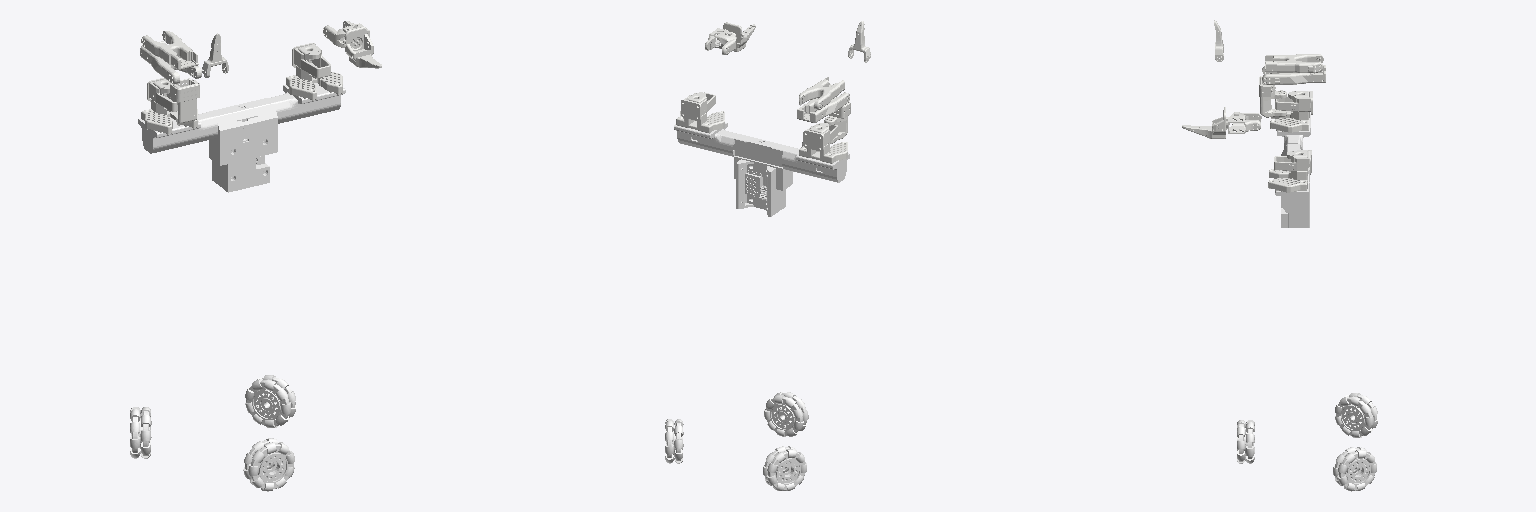
--- What the picture shows (computed from the rendered views, not written in the file) ---
3 views of the same robot in one strip: view 1: azimuth 30°, elevation 25°; view 2: azimuth 150°, elevation 25°; view 3: azimuth 270°, elevation 25° (orthographic).
Robot: Aloha — 19 links, 18 joints (12 revolute, 3 continuous, 1 prismatic, 2 fixed); root link base_link; default pose: all joints at 0.
Links seen in each view (by area): view 1: vertical_link, left_base, wheel3, wheel2, right_base, right_link3, right_link1, wheel1, left_link5, right_link2, right_link6; view 2: vertical_link, wheel1, wheel3, left_base, right_base, right_link3, wheel2, right_link2, left_link4; view 3: vertical_link, left_base, wheel2, wheel1, right_base, right_link3, right_link2, wheel3, right_link1, left_link4, left_link5.
Boxes of the visible links, x1,y1,x2,y2 form: vertical_link: (138, 83, 345, 192); left_base: (286, 43, 342, 100); wheel3: (243, 438, 294, 491); wheel2: (245, 375, 296, 427); right_base: (141, 78, 197, 134); right_link3: (141, 31, 198, 69); right_link1: (170, 78, 199, 125); wheel1: (130, 407, 151, 458); left_link5: (343, 27, 381, 68); right_link2: (140, 41, 201, 83); right_link6: (202, 33, 228, 77); vertical_link: (674, 123, 849, 216); wheel1: (763, 446, 806, 490); wheel3: (764, 392, 808, 436); left_base: (676, 92, 724, 133); right_base: (799, 123, 847, 163); right_link3: (799, 77, 844, 109); wheel2: (665, 419, 683, 463); right_link2: (797, 92, 849, 122); left_link4: (705, 28, 735, 54); vertical_link: (1275, 114, 1310, 227); left_base: (1268, 150, 1311, 192); wheel2: (1333, 447, 1376, 491); wheel1: (1335, 393, 1377, 437); right_base: (1270, 91, 1312, 132); right_link3: (1265, 54, 1323, 72); right_link2: (1262, 65, 1325, 84); wheel3: (1237, 420, 1254, 463); right_link1: (1259, 76, 1286, 117); left_link4: (1226, 112, 1261, 133); left_link5: (1182, 107, 1228, 138).
Size in the robot's own frame: 0.4248 by 0.4379 by 1.01 metres.
Meshes: 19 distinct files referenced, 12 mesh visuals loaded (12 binary STL); not drawn: 7 (reference not matched to a file when rendering).

URDF robot description (Aloha):
<?xml version="1.0" encoding="utf-8"?>
<!-- This URDF was automatically created by SolidWorks to URDF Exporter! Originally created by Stephen Brawner ([email redacted]) 
     Commit Version: 1.6.0-4-g7f85cfe  Build Version: 1.6.7995.38578
     For more information, please see http://wiki.ros.org/sw_urdf_exporter -->
<robot
  name="Aloha">
  <link
    name="base_link">
    <inertial>
      <origin
        xyz="-0.00084647910851246 0.00978916757496985 0.344753325406094"
        rpy="0 0 0" />
      <mass
        value="5.09802085015176" />
      <inertia
        ixx="0.0213914677302785"
        ixy="-9.32121685832386E-05"
        ixz="2.18297110088875E-05"
        iyy="0.020094368938593"
        iyz="-0.000213141208765021"
        izz="0.0220967466492654" />
    </inertial>
    <visual>
      <origin
        xyz="0 0 0"
        rpy="0 0 0" />
      <geometry>
        <mesh
          filename="package://Aloha/meshes/base_link.STL" />
      </geometry>
      <material
        name="">
        <color
          rgba="1 1 1 1" />
      </material>
    </visual>
    <collision>
      <origin
        xyz="0 0 0"
        rpy="0 0 0" />
      <geometry>
        <mesh
          filename="package://Aloha/meshes/base_link.STL" />
      </geometry>
    </collision>
  </link>
  <link
    name="wheel1">
    <inertial>
      <origin
        xyz="-5.2748796340582E-05 0.0157741139634841 -1.84430449176598E-07"
        rpy="0 0 0" />
      <mass
        value="0.19481896281763" />
      <inertia
        ixx="5.08892096796909E-05"
        ixy="3.60517539503935E-11"
        ixz="2.69071538213238E-11"
        iyy="9.36352341038526E-05"
        iyz="-4.45292183145822E-12"
        izz="5.08902241573002E-05" />
    </inertial>
    <visual>
      <origin
        xyz="0 0 0"
        rpy="0 0 0" />
      <geometry>
        <mesh
          filename="package://Aloha/meshes/wheel1.STL" />
      </geometry>
      <material
        name="">
        <color
          rgba="1 1 1 1" />
      </material>
    </visual>
    <collision>
      <origin
        xyz="0 0 0"
        rpy="0 0 0" />
      <geometry>
        <mesh
          filename="package://Aloha/meshes/wheel1.STL" />
      </geometry>
    </collision>
  </link>
  <joint
    name="wheel1"
    type="continuous">
    <origin
      xyz="-0.1538 0.091161 0.0422"
      rpy="0 0 -2.1099" />
    <parent
      link="base_link" />
    <child
      link="wheel1" />
    <axis
      xyz="0 -1 0" />
  </joint>
  <link
    name="wheel2">
    <inertial>
      <origin
        xyz="-6.44947300230958E-06 0.0157740656100239 -5.23561600380557E-05"
        rpy="0 0 0" />
      <mass
        value="0.194818035649416" />
      <inertia
        ixx="5.08900024988905E-05"
        ixy="-1.20873751512226E-12"
        ixz="-2.02779746634605E-10"
        iyy="9.36349961033418E-05"
        iyz="5.35464291484247E-11"
        izz="5.08890471060775E-05" />
    </inertial>
    <visual>
      <origin
        xyz="0 0 0"
        rpy="0 0 0" />
      <geometry>
        <mesh
          filename="package://Aloha/meshes/wheel2.STL" />
      </geometry>
      <material
        name="">
        <color
          rgba="1 1 1 1" />
      </material>
    </visual>
    <collision>
      <origin
        xyz="0 0 0"
        rpy="0 0 0" />
      <geometry>
        <mesh
          filename="package://Aloha/meshes/wheel2.STL" />
      </geometry>
    </collision>
  </link>
  <joint
    name="wheel2"
    type="continuous">
    <origin
      xyz="0.15563 0.087993 0.0422"
      rpy="0 0 2.086" />
    <parent
      link="base_link" />
    <child
      link="wheel2" />
    <axis
      xyz="0 -1 0" />
  </joint>
  <link
    name="wheel3">
    <inertial>
      <origin
        xyz="0.000217589099159171 0.0157726511952609 -4.56400979924609E-05"
        rpy="0 0 0" />
      <mass
        value="0.194818526867466" />
      <inertia
        ixx="5.08999061873463E-05"
        ixy="6.61616290797392E-07"
        ixz="-7.54847308347756E-10"
        iyy="9.36248071320913E-05"
        iyz="7.68531292230303E-11"
        izz="5.08898375022648E-05" />
    </inertial>
    <visual>
      <origin
        xyz="0 0 0"
        rpy="0 0 0" />
      <geometry>
        <mesh
          filename="package://Aloha/meshes/wheel3.STL" />
      </geometry>
      <material
        name="">
        <color
          rgba="1 1 1 1" />
      </material>
    </visual>
    <collision>
      <origin
        xyz="0 0 0"
        rpy="0 0 0" />
      <geometry>
        <mesh
          filename="package://Aloha/meshes/wheel3.STL" />
      </geometry>
    </collision>
  </link>
  <joint
    name="wheel3"
    type="continuous">
    <origin
      xyz="-0.0020354 -0.17875 0.0422"
      rpy="0 0 0" />
    <parent
      link="base_link" />
    <child
      link="wheel3" />
    <axis
      xyz="-0.015476 -0.99988 0" />
  </joint>
  <link
    name="vertical_link">
    <inertial>
      <origin
        xyz="-0.000281866140488002 0.00785823838067955 0.630167237552405"
        rpy="0 0 0" />
      <mass
        value="1.13349901272872" />
      <inertia
        ixx="0.0010858428483705"
        ixy="2.13306252507509E-05"
        ixz="-1.00486949790508E-05"
        iyy="0.00311024638919642"
        iyz="-2.96414805022489E-05"
        izz="0.0024076600321941" />
    </inertial>
    <visual>
      <origin
        xyz="0 0 0"
        rpy="0 0 0" />
      <geometry>
        <mesh
          filename="package://Aloha/meshes/vertical_link.STL" />
      </geometry>
      <material
        name="">
        <color
          rgba="1 1 1 1" />
      </material>
    </visual>
    <collision>
      <origin
        xyz="0 0 0"
        rpy="0 0 0" />
      <geometry>
        <mesh
          filename="package://Aloha/meshes/vertical_link.STL" />
      </geometry>
    </collision>
  </link>
  <joint
    name="vertical_move"
    type="prismatic">
    <origin
      xyz="-0.001045 -0.067891 0.064"
      rpy="0 0 0" />
    <parent
      link="base_link" />
    <child
      link="vertical_link" />
    <axis
      xyz="0 1.8801E-05 1" />
    <limit
      lower="0"
      upper="0"
      effort="0"
      velocity="0" />
  </joint>
  <link
    name="left_base">
    <inertial>
      <origin
        xyz="-6.47167646904735E-05 0.0317790321031433 0.0165976346519832"
        rpy="0 0 0" />
      <mass
        value="0.198100409133884" />
      <inertia
        ixx="0.000137416766071961"
        ixy="-1.82517377942839E-09"
        ixz="-5.13449093551759E-07"
        iyy="0.000177539441067423"
        iyz="2.132896783062E-05"
        izz="0.0001503685199807" />
    </inertial>
    <visual>
      <origin
        xyz="0 0 0"
        rpy="0 0 0" />
      <geometry>
        <mesh
          filename="package://Aloha/meshes/left_base.STL" />
      </geometry>
      <material
        name="">
        <color
          rgba="0.964705882352941 0.964705882352941 0.952941176470588 1" />
      </material>
    </visual>
    <collision>
      <origin
        xyz="0 0 0"
        rpy="0 0 0" />
      <geometry>
        <mesh
          filename="package://Aloha/meshes/left_base.STL" />
      </geometry>
    </collision>
  </link>
  <joint
    name="left_base"
    type="fixed">
    <origin
      xyz="0.15726 0.026474 0.68821"
      rpy="1.5721 0 -0.01193" />
    <parent
      link="vertical_link" />
    <child
      link="left_base" />
    <axis
      xyz="0 0 0" />
  </joint>
  <link
    name="left_link1">
    <inertial>
      <origin
        xyz="0.000121106970690763 -0.0313187111675913 0.0119674003207884"
        rpy="0 0 0" />
      <mass
        value="0.124705001245189" />
      <inertia
        ixx="5.98529439039593E-05"
        ixy="4.23009347760015E-08"
        ixz="4.23863604085012E-07"
        iyy="5.56041421022497E-05"
        iyz="4.7788290550065E-06"
        izz="3.02532949332968E-05" />
    </inertial>
    <visual>
      <origin
        xyz="0 0 0"
        rpy="0 0 0" />
      <geometry>
        <mesh
          filename="package://Aloha/meshes/left_link1.STL" />
      </geometry>
      <material
        name="">
        <color
          rgba="0.964705882352941 0.964705882352941 0.952941176470588 1" />
      </material>
    </visual>
    <collision>
      <origin
        xyz="0 0 0"
        rpy="0 0 0" />
      <geometry>
        <mesh
          filename="package://Aloha/meshes/left_link1.STL" />
      </geometry>
    </collision>
  </link>
  <joint
    name="left_joint1"
    type="revolute">
    <origin
      xyz="-9.9427E-05 0.065387 0.045495"
      rpy="-1.5721 0.01193 -1.5058E-05" />
    <parent
      link="left_base" />
    <child
      link="left_link1" />
    <axis
      xyz="0.00011908 0.0099879 -0.99995" />
    <limit
      lower="0"
      upper="0"
      effort="0"
      velocity="0" />
  </joint>
  <link
    name="left_link2">
    <inertial>
      <origin
        xyz="0.019956873522225 0.0742856296056551 0.00422113879640418"
        rpy="0 0 0" />
      <mass
        value="0.159995189384934" />
      <inertia
        ixx="0.000151783987720491"
        ixy="1.09262655684205E-06"
        ixz="1.21662497181061E-07"
        iyy="5.76463942492128E-05"
        iyz="7.49535020674174E-07"
        izz="0.000186896896161095" />
    </inertial>
    <visual>
      <origin
        xyz="0 0 0"
        rpy="0 0 0" />
      <geometry>
        <mesh
          filename="package://Aloha/meshes/left_link2.STL" />
      </geometry>
      <material
        name="">
        <color
          rgba="0.964705882352941 0.964705882352941 0.952941176470588 1" />
      </material>
    </visual>
    <collision>
      <origin
        xyz="0 0 0"
        rpy="0 0 0" />
      <geometry>
        <mesh
          filename="package://Aloha/meshes/left_link2.STL" />
      </geometry>
    </collision>
  </link>
  <joint
    name="left_joint2"
    type="revolute">
    <origin
      xyz="-0.0172799395963306 -0.0311811002780606 0.0539361523404946"
      rpy="0 0 0" />
    <parent
      link="left_link1" />
    <child
      link="left_link2" />
    <axis
      xyz="0.999994864047587 -0.00320379392081127 8.70801950002401E-05" />
    <limit
      lower="0"
      upper="0"
      effort="0"
      velocity="0" />
  </joint>
  <link
    name="left_link3">
    <inertial>
      <origin
        xyz="0.0188635530589078 -0.0764818324673495 0.000740365189654368"
        rpy="0 0 0" />
      <mass
        value="0.135542971850972" />
      <inertia
        ixx="9.79530639893018E-05"
        ixy="7.32525825400078E-07"
        ixz="-1.97978431727559E-07"
        iyy="3.97033329850519E-05"
        iyz="-2.49654893442067E-06"
        izz="0.000125313695411449" />
    </inertial>
    <visual>
      <origin
        xyz="0 0 0"
        rpy="0 0 0" />
      <geometry>
        <mesh
          filename="package://Aloha/meshes/left_link3.STL" />
      </geometry>
      <material
        name="">
        <color
          rgba="0.964705882352941 0.964705882352941 0.952941176470588 1" />
      </material>
    </visual>
    <collision>
      <origin
        xyz="0 0 0"
        rpy="0 0 0" />
      <geometry>
        <mesh
          filename="package://Aloha/meshes/left_link3.STL" />
      </geometry>
    </collision>
  </link>
  <joint
    name="left_joint3"
    type="revolute">
    <origin
      xyz="0.0028523 0.11238 0.028829"
      rpy="0 0 0" />
    <parent
      link="left_link2" />
    <child
      link="left_link3" />
    <axis
      xyz="0.99996 -0.0032908 0.0088132" />
    <limit
      lower="0"
      upper="0"
      effort="0"
      velocity="0" />
  </joint>
  <link
    name="left_link4">
    <inertial>
      <origin
        xyz="0.0279838202754113 -0.0363068236889853 0.000384829033235112"
        rpy="0 0 0" />
      <mass
        value="0.0742878691881685" />
      <inertia
        ixx="1.66990659139949E-05"
        ixy="1.97720472060619E-06"
        ixz="-2.54232662541019E-07"
        iyy="2.43741118311199E-05"
        iyz="6.90575207676445E-08"
        izz="3.14317929408492E-05" />
    </inertial>
    <visual>
      <origin
        xyz="0 0 0"
        rpy="0 0 0" />
      <geometry>
        <mesh
          filename="package://Aloha/meshes/left_link4.STL" />
      </geometry>
      <material
        name="">
        <color
          rgba="0.964705882352941 0.964705882352941 0.952941176470588 1" />
      </material>
    </visual>
    <collision>
      <origin
        xyz="0 0 0"
        rpy="0 0 0" />
      <geometry>
        <mesh
          filename="package://Aloha/meshes/left_link4.STL" />
      </geometry>
    </collision>
  </link>
  <joint
    name="left_joint4"
    type="revolute">
    <origin
      xyz="0.00048209729405399 -0.134148581563103 0.00362381075655138"
      rpy="0 0 0" />
    <parent
      link="left_link3" />
    <child
      link="left_link4" />
    <axis
      xyz="0.999774464019127 -0.0121028846500289 0.0174511110940406" />
    <limit
      lower="0"
      upper="0"
      effort="0"
      velocity="0" />
  </joint>
  <link
    name="left_link5">
    <inertial>
      <origin
        xyz="8.08393796061513E-05 -0.0263409418103688 -0.00560236977442241"
        rpy="0 0 0" />
      <mass
        value="0.0992047568868334" />
      <inertia
        ixx="4.92449125031436E-05"
        ixy="-2.53381198127316E-07"
        ixz="-4.26839506651897E-07"
        iyy="2.71532027390863E-05"
        iyz="-6.95500472386489E-06"
        izz="3.91386942187985E-05" />
    </inertial>
    <visual>
      <origin
        xyz="0 0 0"
        rpy="0 0 0" />
      <geometry>
        <mesh
          filename="package://Aloha/meshes/left_link5.STL" />
      </geometry>
      <material
        name="">
        <color
          rgba="0.964705882352941 0.964705882352941 0.952941176470588 1" />
      </material>
    </visual>
    <collision>
      <origin
        xyz="0 0 0"
        rpy="0 0 0" />
      <geometry>
        <mesh
          filename="package://Aloha/meshes/left_link5.STL" />
      </geometry>
    </collision>
  </link>
  <joint
    name="left_joint5"
    type="revolute">
    <origin
      xyz="0.0197383915384675 -0.0617903364033804 -0.000262136225517406"
      rpy="0 0 0" />
    <parent
      link="left_link4" />
    <child
      link="left_link5" />
    <axis
      xyz="0.0119284594940202 0.999878198776736 0.0100647635386641" />
    <limit
      lower="0"
      upper="0"
      effort="0"
      velocity="0" />
  </joint>
  <link
    name="left_link6">
    <inertial>
      <origin
        xyz="-0.0204038927902523 -0.00159758044103914 0.029746450173969"
        rpy="0 0 0" />
      <mass
        value="0.0208454114831758" />
      <inertia
        ixx="9.14110734632438E-06"
        ixy="3.37607572091266E-08"
        ixz="-1.30023681677212E-07"
        iyy="1.1431117316603E-05"
        iyz="6.42781435293997E-07"
        izz="3.29303532243366E-06" />
    </inertial>
    <visual>
      <origin
        xyz="0 0 0"
        rpy="0 0 0" />
      <geometry>
        <mesh
          filename="package://Aloha/meshes/left_link6.STL" />
      </geometry>
      <material
        name="">
        <color
          rgba="0.964705882352941 0.964705882352941 0.952941176470588 1" />
      </material>
    </visual>
    <collision>
      <origin
        xyz="0 0 0"
        rpy="0 0 0" />
      <geometry>
        <mesh
          filename="package://Aloha/meshes/left_link6.STL" />
      </geometry>
    </collision>
  </link>
  <joint
    name="left_joint6"
    type="revolute">
    <origin
      xyz="0.0187720220742788 -0.0238281541937461 0.0200035092438084"
      rpy="0 0 0" />
    <parent
      link="left_link5" />
    <child
      link="left_link6" />
    <axis
      xyz="-0.999889727846743 0.0120164296808642 -0.00872568417324989" />
    <limit
      lower="0"
      upper="0"
      effort="0"
      velocity="0" />
  </joint>
  <link
    name="right_base">
    <inertial>
      <origin
        xyz="-6.47167852975139E-05 0.0317790320234692 0.0165976345779274"
        rpy="0 0 0" />
      <mass
        value="0.198100409607737" />
      <inertia
        ixx="0.000137416766189558"
        ixy="-1.82525111822434E-09"
        ixz="-5.1344915804598E-07"
        iyy="0.000177539441510464"
        iyz="2.13289677353662E-05"
        izz="0.000150368519811328" />
    </inertial>
    <visual>
      <origin
        xyz="0 0 0"
        rpy="0 0 0" />
      <geometry>
        <mesh
          filename="package://Aloha/meshes/right_base.STL" />
      </geometry>
      <material
        name="">
        <color
          rgba="0.964705882352941 0.964705882352941 0.952941176470588 1" />
      </material>
    </visual>
    <collision>
      <origin
        xyz="0 0 0"
        rpy="0 0 0" />
      <geometry>
        <mesh
          filename="package://Aloha/meshes/right_base.STL" />
      </geometry>
    </collision>
  </link>
  <joint
    name="right_base"
    type="fixed">
    <origin
      xyz="-0.156575640990368 0.0302182544430658 0.688907726663402"
      rpy="1.5720584644847 0 -0.0119300103453133" />
    <parent
      link="vertical_link" />
    <child
      link="right_base" />
    <axis
      xyz="0 0 0" />
  </joint>
  <link
    name="right_link1">
    <inertial>
      <origin
        xyz="0.000121106969499962 -0.0313187111595207 0.011967400309894"
        rpy="0 0 0" />
      <mass
        value="0.124705001332934" />
      <inertia
        ixx="5.98529439281542E-05"
        ixy="4.23009393057866E-08"
        ixz="4.23863587037058E-07"
        iyy="5.56041421363056E-05"
        iyz="4.77882907361453E-06"
        izz="3.02532949711444E-05" />
    </inertial>
    <visual>
      <origin
        xyz="0 0 0"
        rpy="0 0 0" />
      <geometry>
        <mesh
          filename="package://Aloha/meshes/right_link1.STL" />
      </geometry>
      <material
        name="">
        <color
          rgba="0.964705882352941 0.964705882352941 0.952941176470588 1" />
      </material>
    </visual>
    <collision>
      <origin
        xyz="0 0 0"
        rpy="0 0 0" />
      <geometry>
        <mesh
          filename="package://Aloha/meshes/right_link1.STL" />
      </geometry>
    </collision>
  </link>
  <joint
    name="right_joint1"
    type="revolute">
    <origin
      xyz="-9.94268621290484E-05 0.0653870978342812 0.04549462735273"
      rpy="-1.5720585543069 0.0119300008426609 -1.50580260816763E-05" />
    <parent
      link="right_base" />
    <child
      link="right_link1" />
    <axis
      xyz="0.000119075661457425 0.00998790806073686 -0.999950112512398" />
    <limit
      lower="0"
      upper="0"
      effort="0"
      velocity="0" />
  </joint>
  <link
    name="right_link2">
    <inertial>
      <origin
        xyz="0.0199568735153524 0.0742856296207353 0.00422113879547792"
        rpy="0 0 0" />
      <mass
        value="0.159995189339826" />
      <inertia
        ixx="0.000151783987647815"
        ixy="1.09262650936436E-06"
        ixz="1.21662505806737E-07"
        iyy="5.76463942183647E-05"
        iyz="7.49535009312794E-07"
        izz="0.000186896896059229" />
    </inertial>
    <visual>
      <origin
        xyz="0 0 0"
        rpy="0 0 0" />
      <geometry>
        <mesh
          filename="package://Aloha/meshes/right_link2.STL" />
      </geometry>
      <material
        name="">
        <color
          rgba="0.964705882352941 0.964705882352941 0.952941176470588 1" />
      </material>
    </visual>
    <collision>
      <origin
        xyz="0 0 0"
        rpy="0 0 0" />
      <geometry>
        <mesh
          filename="package://Aloha/meshes/right_link2.STL" />
      </geometry>
    </collision>
  </link>
  <joint
    name="right_joint2"
    type="revolute">
    <origin
      xyz="-0.0172799395963307 -0.0311811002780605 0.0539361523404946"
      rpy="0 0 0" />
    <parent
      link="right_link1" />
    <child
      link="right_link2" />
    <axis
      xyz="0.999994864047587 -0.00320379392081127 8.70801950002401E-05" />
    <limit
      lower="0"
      upper="0"
      effort="0"
      velocity="0" />
  </joint>
  <link
    name="right_link3">
    <inertial>
      <origin
        xyz="0.0188635531409881 -0.0764818322790424 0.000740365178020785"
        rpy="0 0 0" />
      <mass
        value="0.135542972322652" />
      <inertia
        ixx="9.79530645616033E-05"
        ixy="7.32525422088505E-07"
        ixz="-1.97978409310946E-07"
        iyy="3.97033332707025E-05"
        iyz="-2.49654890226816E-06"
        izz="0.00012531369626649" />
    </inertial>
    <visual>
      <origin
        xyz="0 0 0"
        rpy="0 0 0" />
      <geometry>
        <mesh
          filename="package://Aloha/meshes/right_link3.STL" />
      </geometry>
      <material
        name="">
        <color
          rgba="0.964705882352941 0.964705882352941 0.952941176470588 1" />
      </material>
    </visual>
    <collision>
      <origin
        xyz="0 0 0"
        rpy="0 0 0" />
      <geometry>
        <mesh
          filename="package://Aloha/meshes/right_link3.STL" />
      </geometry>
    </collision>
  </link>
  <joint
    name="right_joint3"
    type="revolute">
    <origin
      xyz="0.00285228244048635 0.112379078107107 0.0288286304493108"
      rpy="0 0 0" />
    <parent
      link="right_link2" />
    <child
      link="right_link3" />
    <axis
      xyz="0.999955748189333 -0.00329083176439995 0.0088131770326472" />
    <limit
      lower="0"
      upper="0"
      effort="0"
      velocity="0" />
  </joint>
  <link
    name="right_link4">
    <inertial>
      <origin
        xyz="0.0279838202822244 -0.0363068237772076 0.00038482906176196"
        rpy="0 0 0" />
      <mass
        value="0.0742878695973153" />
      <inertia
        ixx="1.66990661768294E-05"
        ixy="1.97720479323567E-06"
        ixz="-2.54232674368644E-07"
        iyy="2.43741118850697E-05"
        iyz="6.90575778720147E-08"
        izz="3.14317932103669E-05" />
    </inertial>
    <visual>
      <origin
        xyz="0 0 0"
        rpy="0 0 0" />
      <geometry>
        <mesh
          filename="package://Aloha/meshes/right_link4.STL" />
      </geometry>
      <material
        name="">
        <color
          rgba="0.964705882352941 0.964705882352941 0.952941176470588 1" />
      </material>
    </visual>
    <collision>
      <origin
        xyz="0 0 0"
        rpy="0 0 0" />
      <geometry>
        <mesh
          filename="package://Aloha/meshes/right_link4.STL" />
      </geometry>
    </collision>
  </link>
  <joint
    name="right_joint4"
    type="revolute">
    <origin
      xyz="0.000482097294054018 -0.134148581563103 0.00362381075655149"
      rpy="0 0 0" />
    <parent
      link="right_link3" />
    <child
      link="right_link4" />
    <axis
      xyz="0.999774464019126 -0.0121028846500287 0.0174511110940404" />
    <limit
      lower="0"
      upper="0"
      effort="0"
      velocity="0" />
  </joint>
  <link
    name="right_link5">
    <inertial>
      <origin
        xyz="8.08398808658795E-05 -0.0263409414128249 -0.0056023692609708"
        rpy="0 0 0" />
      <mass
        value="0.0992047534563596" />
      <inertia
        ixx="4.9244911952362E-05"
        ixy="-2.53380764715712E-07"
        ixz="-4.26839214341626E-07"
        iyy="2.71532017310361E-05"
        iyz="-6.95500454208295E-06"
        izz="3.9138693130784E-05" />
    </inertial>
    <visual>
      <origin
        xyz="0 0 0"
        rpy="0 0 0" />
      <geometry>
        <mesh
          filename="package://Aloha/meshes/right_link5.STL" />
      </geometry>
      <material
        name="">
        <color
          rgba="0.964705882352941 0.964705882352941 0.952941176470588 1" />
      </material>
    </visual>
    <collision>
      <origin
        xyz="0 0 0"
        rpy="0 0 0" />
      <geometry>
        <mesh
          filename="package://Aloha/meshes/right_link5.STL" />
      </geometry>
    </collision>
  </link>
  <joint
    name="right_joint5"
    type="revolute">
    <origin
      xyz="0.0197383915384675 -0.0617903364033804 -0.000262136225517295"
      rpy="0 0 0" />
    <parent
      link="right_link4" />
    <child
      link="right_link5" />
    <axis
      xyz="0.0119284594940119 0.999878198776736 0.0100647635386643" />
    <limit
      lower="0"
      upper="0"
      effort="0"
      velocity="0" />
  </joint>
  <link
    name="right_link6">
    <inertial>
      <origin
        xyz="-0.0204038927575424 -0.00159758043417435 0.0297464502009193"
        rpy="0 0 0" />
      <mass
        value="0.0208454115141475" />
      <inertia
        ixx="9.14110734343226E-06"
        ixy="3.37607612259518E-08"
        ixz="-1.30023709907373E-07"
        iyy="1.14311173177543E-05"
        iyz="6.42781426848458E-07"
        izz="3.29303532232764E-06" />
    </inertial>
    <visual>
      <origin
        xyz="0 0 0"
        rpy="0 0 0" />
      <geometry>
        <mesh
          filename="package://Aloha/meshes/right_link6.STL" />
      </geometry>
      <material
        name="">
        <color
          rgba="0.964705882352941 0.964705882352941 0.952941176470588 1" />
      </material>
    </visual>
    <collision>
      <origin
        xyz="0 0 0"
        rpy="0 0 0" />
      <geometry>
        <mesh
          filename="package://Aloha/meshes/right_link6.STL" />
      </geometry>
    </collision>
  </link>
  <joint
    name="right_joint6"
    type="revolute">
    <origin
      xyz="0.0187720220742787 -0.023828154193746 0.0200035092438087"
      rpy="0 0 0" />
    <parent
      link="right_link5" />
    <child
      link="right_link6" />
    <axis
      xyz="-0.999889727846743 0.0120164296808642 -0.00872568417324984" />
    <limit
      lower="0"
      upper="0"
      effort="0"
      velocity="0" />
  </joint>
</robot>
